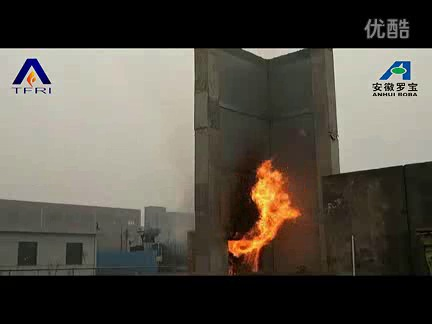fire: (223, 158, 302, 272)
